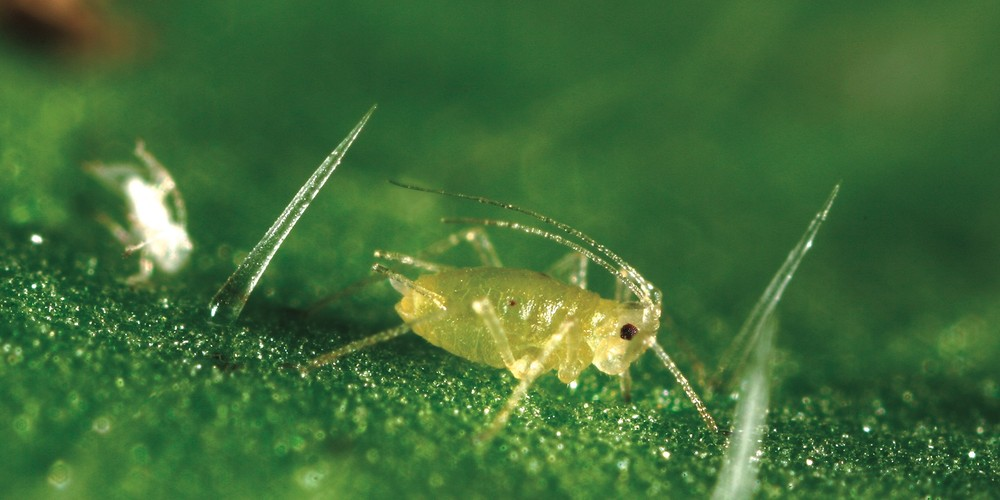Pulgon: (336, 176, 722, 457)
